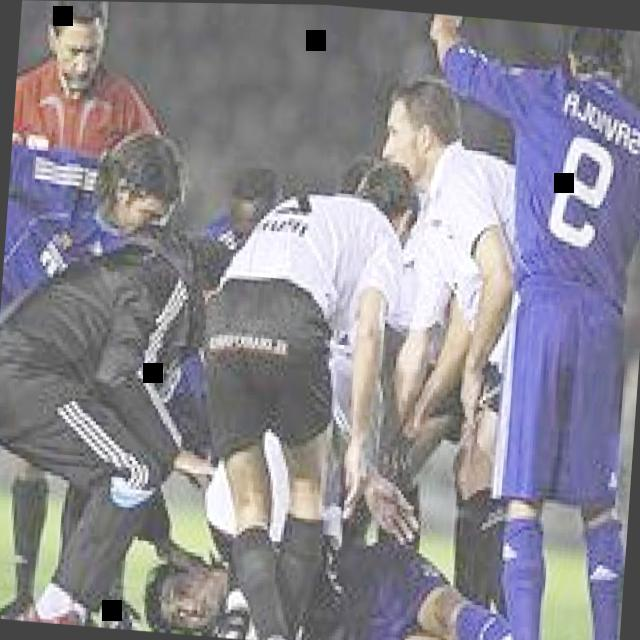Fall-Detected: (139, 490, 587, 640)
